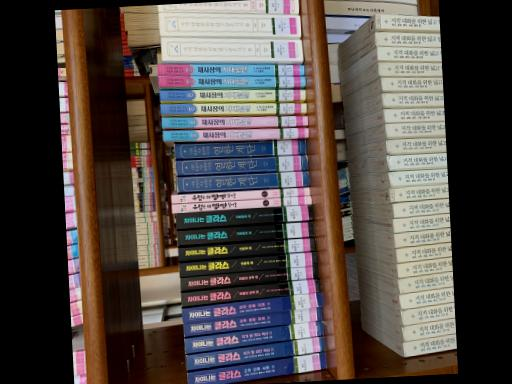book-spine: (185, 335, 324, 370), (187, 351, 326, 384), (184, 319, 323, 352), (181, 291, 323, 321), (183, 306, 322, 336), (181, 278, 321, 305), (179, 251, 318, 276), (180, 265, 318, 290), (175, 204, 313, 228), (160, 37, 303, 60), (158, 12, 301, 35), (177, 221, 314, 245), (177, 237, 315, 260), (176, 170, 309, 191), (175, 154, 308, 174), (174, 138, 306, 158), (171, 195, 312, 212), (171, 186, 310, 203), (162, 127, 309, 140), (157, 0, 299, 13), (161, 115, 308, 127), (160, 102, 307, 114), (157, 63, 304, 75), (159, 89, 306, 100), (158, 75, 305, 86)
